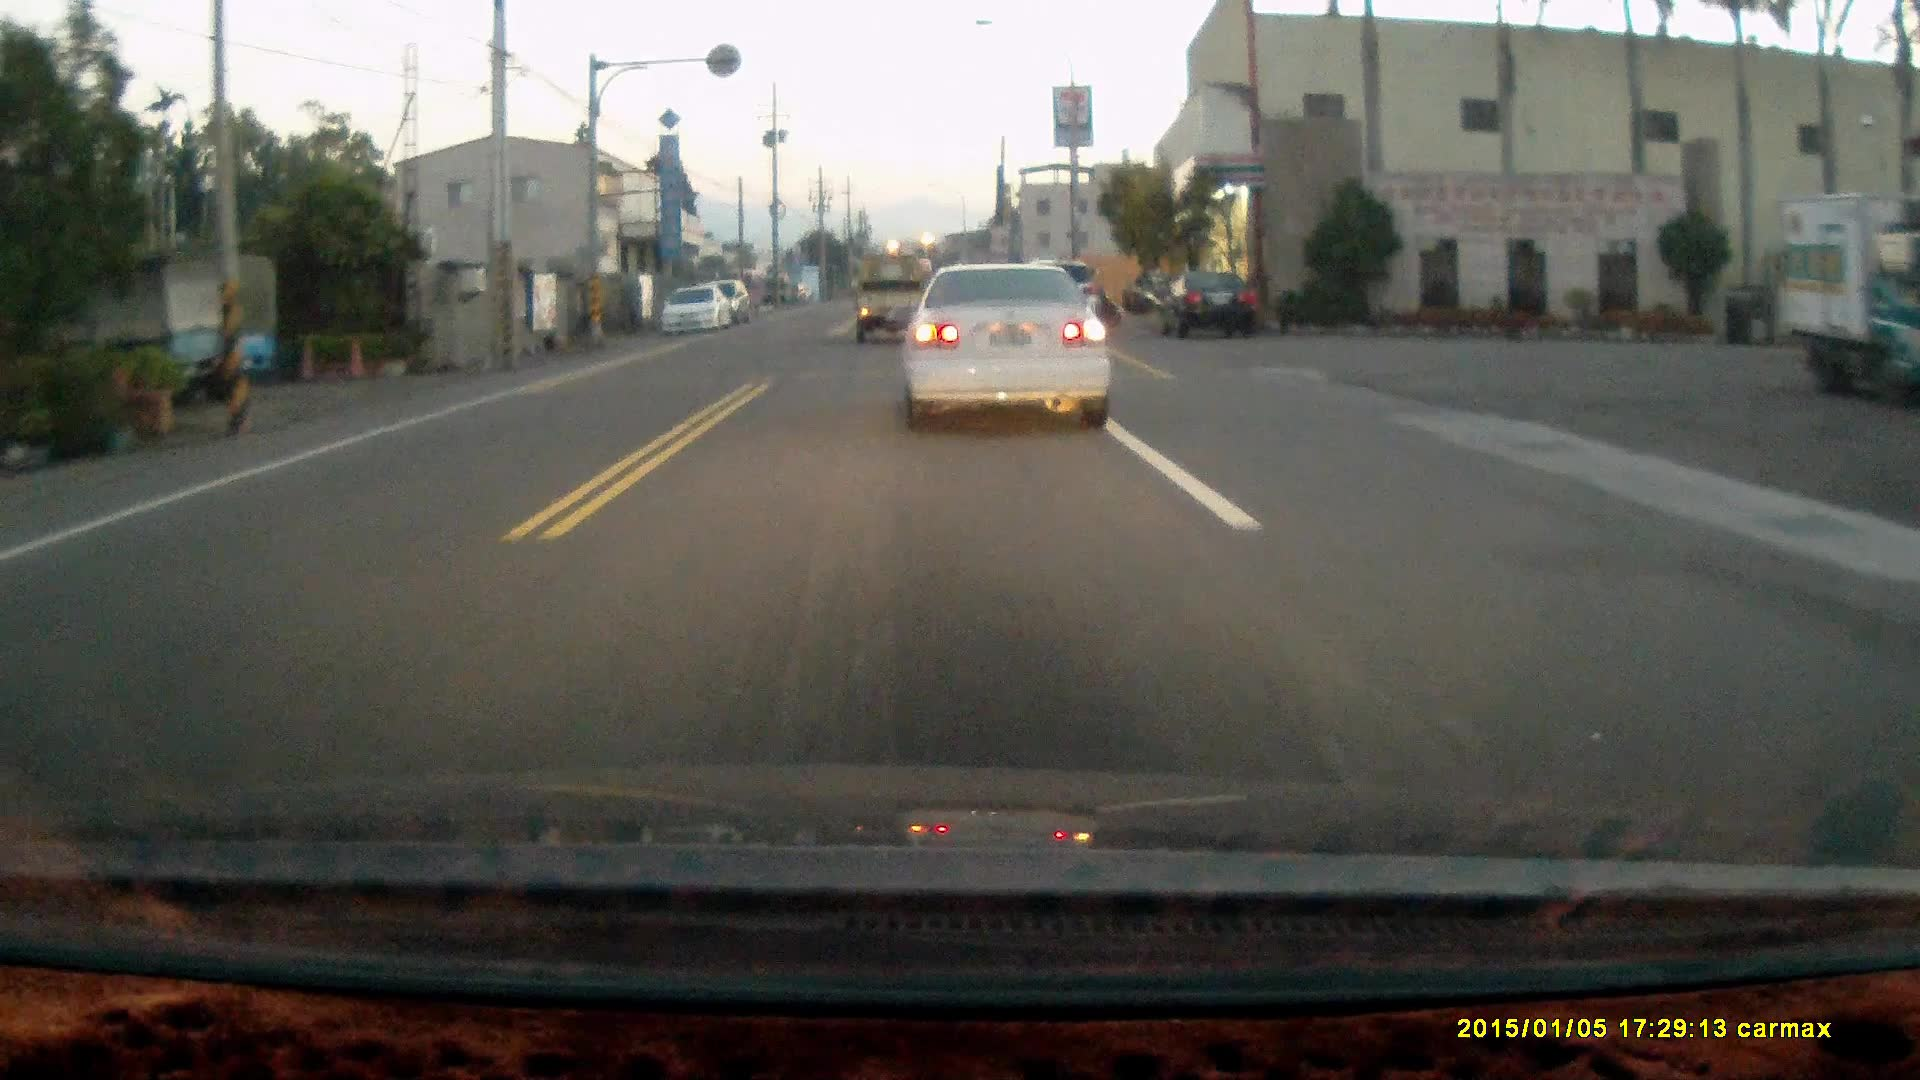vehicle: (905, 255, 1117, 444), (1782, 204, 1920, 423), (1150, 272, 1265, 340), (853, 258, 928, 344), (653, 280, 736, 339)
